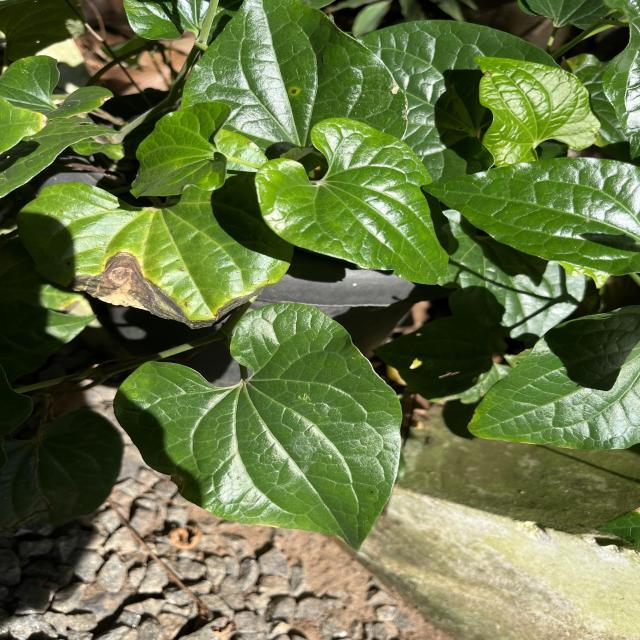Piper longum: (110, 298, 405, 555), (250, 114, 457, 296)
